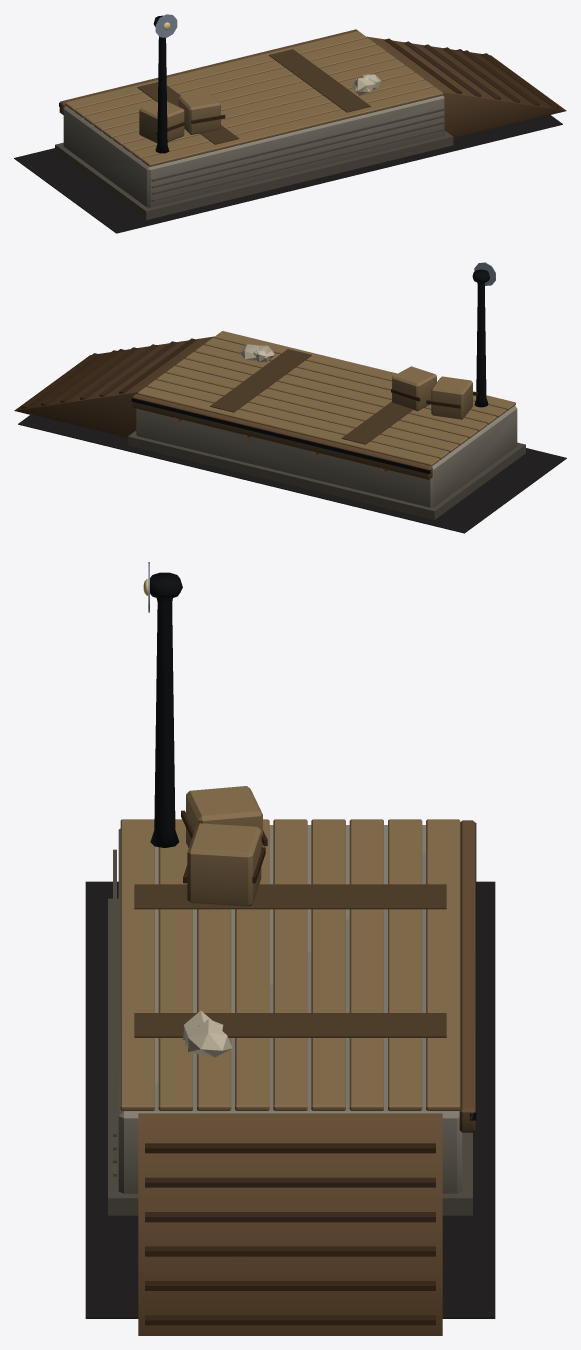
File: loading-dock-platform.glb
3 views of the same model, one above another, from view 1: azimuth 30°, elevation 25°; view 2: azimuth 150°, elevation 25°; view 3: azimuth 270°, elevation 25° (orthographic). The views are drawn at different scales.
Visible parts, largest first — view 1: loading_dock_platform; view 2: loading_dock_platform; view 3: loading_dock_platform.
Part boxes in pixels (x1,y1,x2,y2): loading_dock_platform: [14, 14, 566, 233]; loading_dock_platform: [14, 262, 566, 533]; loading_dock_platform: [85, 562, 495, 1335].
Bounding box in the file's own units: 8.1 × 3.2 × 3.1.
